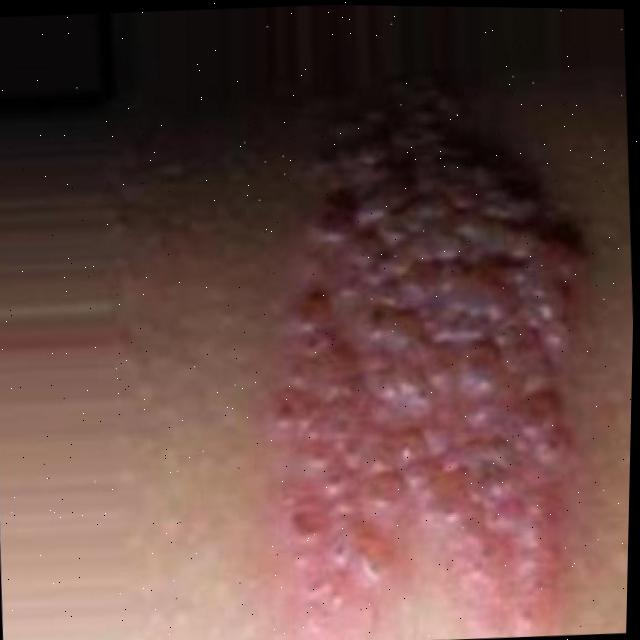Shingles: (265, 78, 610, 640)
